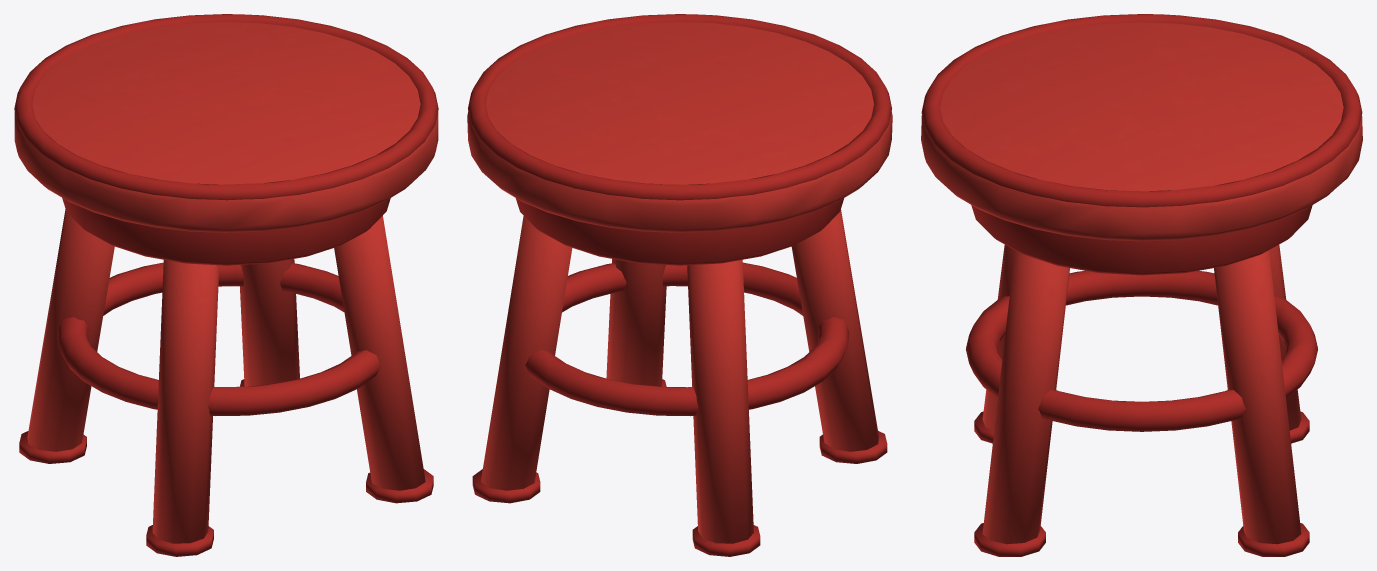
The model's file is tm-red-stool.glb.
3 views of the same model, side by side, from view 1: azimuth 30°, elevation 25°; view 2: azimuth 150°, elevation 25°; view 3: azimuth 270°, elevation 25° (orthographic). The views are drawn at different scales.
Visible parts, largest first — view 1: tm-red-stool; view 2: tm-red-stool; view 3: tm-red-stool.
Part boxes in pixels (x1,y1,x2,y2): tm-red-stool: [14, 14, 438, 556]; tm-red-stool: [467, 14, 892, 556]; tm-red-stool: [921, 14, 1362, 556].
Size of the model in its own units: 0.32 by 0.3099 by 0.32.
1 material, 1 textured.
